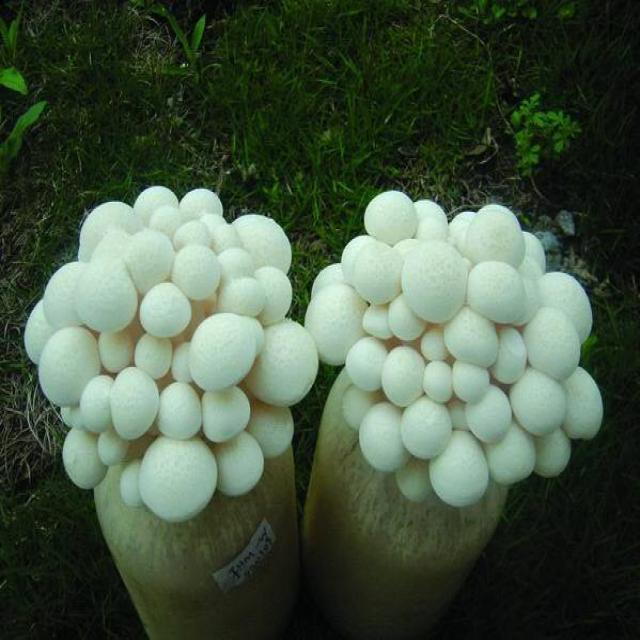Hypsizygus marmoreus: (24, 188, 318, 517), (307, 189, 601, 505)
